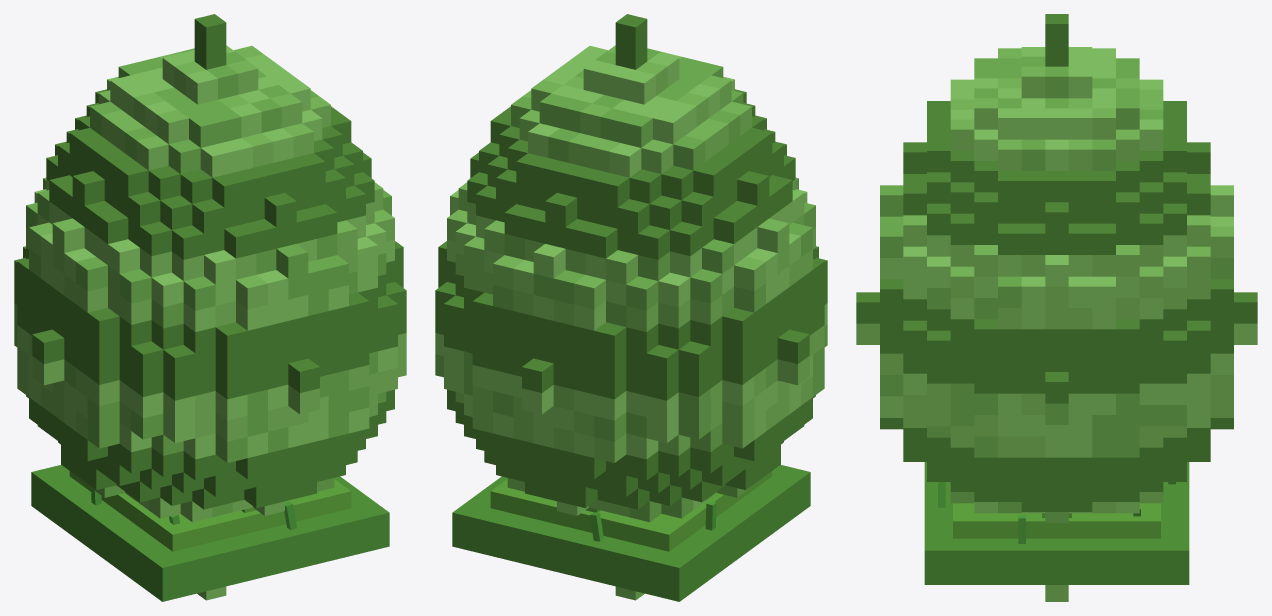
File: egg_comun_hierba.glb
3 renders of one model, left to right at view 1: azimuth 30°, elevation 25°; view 2: azimuth 150°, elevation 25°; view 3: azimuth 270°, elevation 25°, orthographic.
Visible parts, largest first — view 1: shell_geo, root_geo; view 2: shell_geo, root_geo; view 3: shell_geo, root_geo.
Boxes of the visible parts, x1=… form: shell_geo: x1=14, y1=14, x2=406, y2=600; root_geo: x1=31, y1=464, x2=389, y2=601; shell_geo: x1=435, y1=14, x2=827, y2=600; root_geo: x1=452, y1=464, x2=810, y2=601; shell_geo: x1=856, y1=14, x2=1257, y2=601; root_geo: x1=924, y1=462, x2=1189, y2=584.
Bounding box in the file's own units: 4.25 × 6.75 × 4.25.
